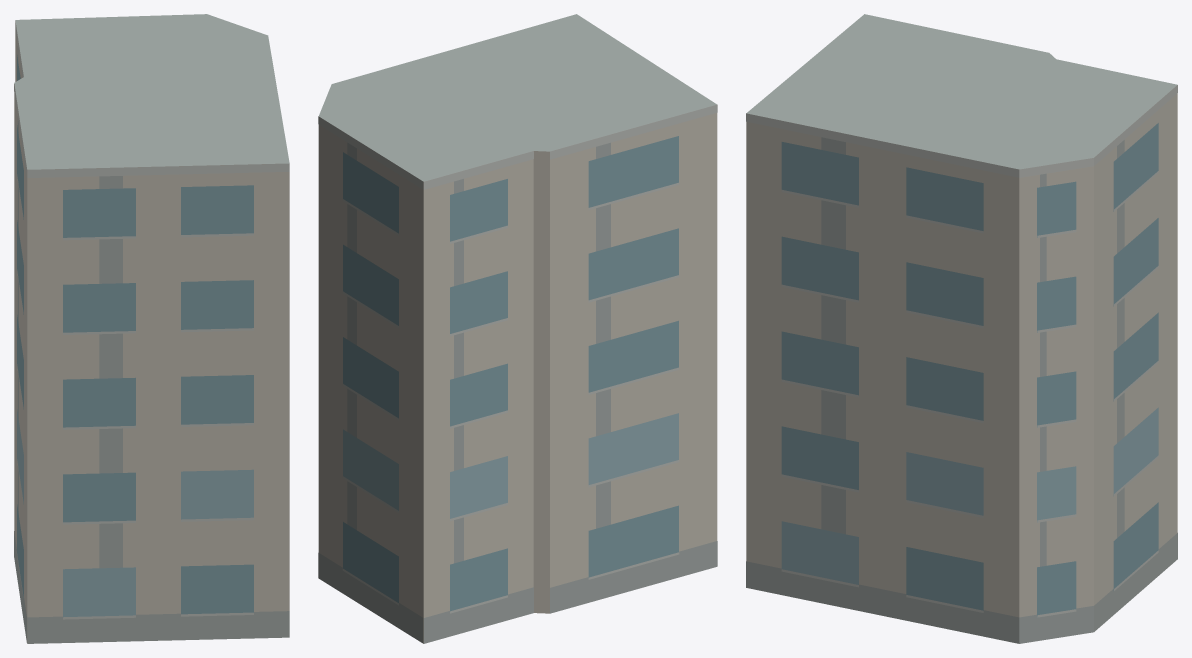
Rendered from survey-upis-32997588.glb.
3 renders of one model, left to right at view 1: azimuth 30°, elevation 25°; view 2: azimuth 150°, elevation 25°; view 3: azimuth 270°, elevation 25°, orthographic. The views are drawn at different scales.
Visible parts, largest first — view 1: survey-upis-32997588.tmp; view 2: survey-upis-32997588.tmp; view 3: survey-upis-32997588.tmp.
Part boxes in pixels (box(x1,y1,x2,y2)): survey-upis-32997588.tmp: box(14, 14, 289, 643); survey-upis-32997588.tmp: box(318, 14, 717, 643); survey-upis-32997588.tmp: box(746, 14, 1177, 643).
Bounding box in the file's own units: 9.71 × 13.8 × 11.39.
